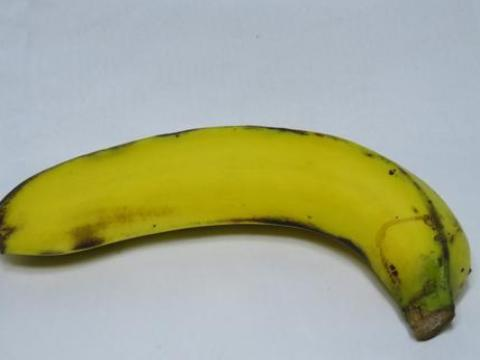freshripe: (0, 112, 479, 339)
